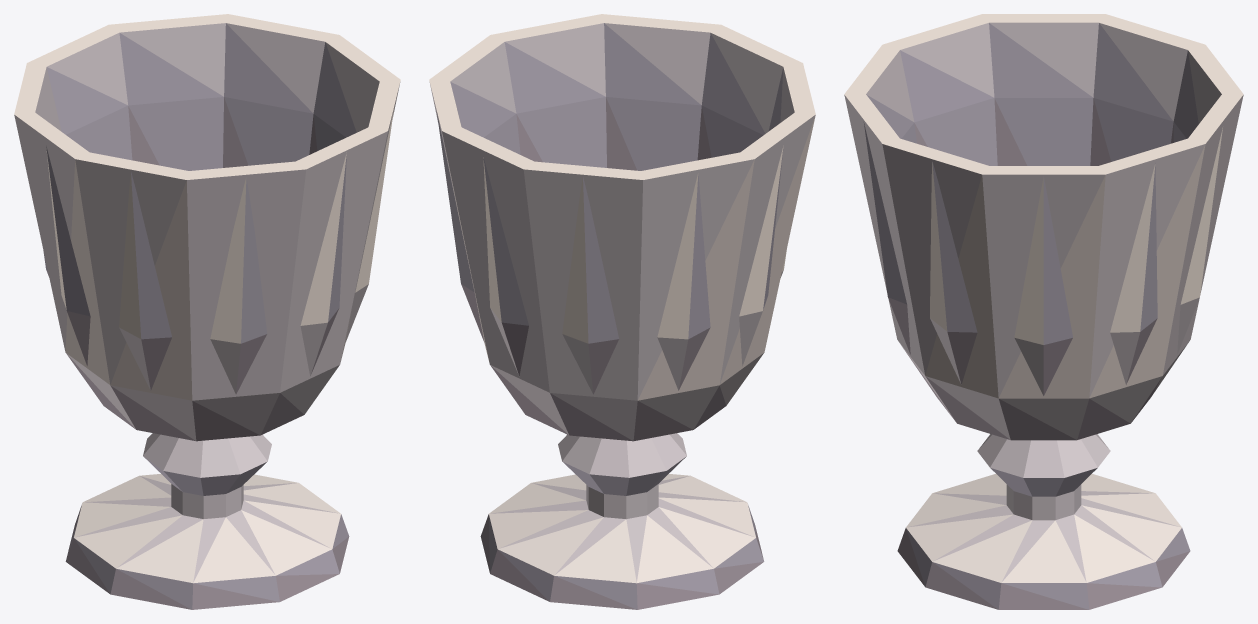
The model's file is glass_empty.fbx.
3 renders of one model, left to right at view 1: azimuth 30°, elevation 25°; view 2: azimuth 150°, elevation 25°; view 3: azimuth 270°, elevation 25°, orthographic.
Parts seen in each view (by area): view 1: pCylinder7; view 2: pCylinder7; view 3: pCylinder7.
Boxes of the visible parts, box(x1,y1,x2,y2) form: pCylinder7: box(14, 14, 400, 609); pCylinder7: box(429, 14, 815, 609); pCylinder7: box(844, 14, 1243, 609).
Size of the model in its own units: 8.54 by 11.33 by 8.98.
